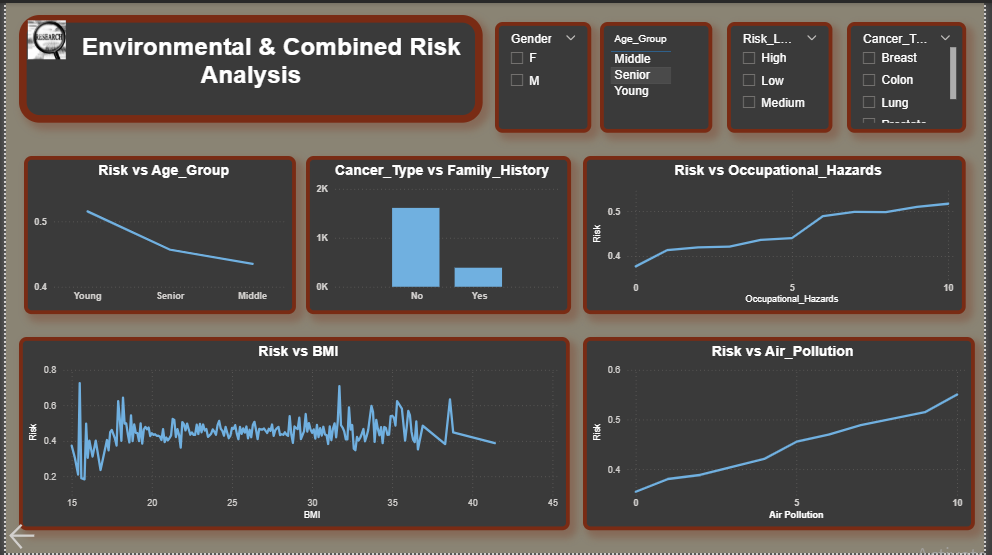

Layout of this report page (visuals, bound fields, positions):
{"tool":"powerbi","page":{"name":"Page 3","canvas":[1280,720],"ordinal":2},"visuals":[{"type":"clusteredColumnChart","title":"Cancer_Type vs Family_History","fields":{"Category":["cancer-risk-factors.Family_History"],"Y":["CountNonNull(cancer-risk-factors.Cancer_Type)"]},"box":[392.3,199.8,346.8,207.2],"z":0},{"type":"lineChart","title":"Risk vs BMI","fields":{"Category":["cancer-risk-factors.BMI"],"Y":["Avg(cancer-risk-factors.Overall_Risk)"]},"box":[17.6,437.9,721.5,252.7],"z":1000},{"type":"lineChart","title":"Risk vs Air_Pollution","fields":{"Category":["cancer-risk-factors.Air_Pollution"],"Y":["Avg(cancer-risk-factors.Overall_Risk)"]},"box":[755.3,437.9,512.8,252.7],"z":2000},{"type":"slicer","fields":{"Values":["cancer-risk-factors.Gender"]},"box":[640.7,25,126.4,145.5],"z":3000},{"type":"slicer","fields":{"Values":["cancer-risk-factors.Risk_Level"]},"box":[943.3,25,138.1,145.5],"z":4000},{"type":"tableEx","fields":{"Values":["cancer-risk-factors.Age_Group"]},"box":[777.6,24.9,146.6,145.3],"z":5000},{"type":"slicer","fields":{"Values":["cancer-risk-factors.Cancer_Type"]},"box":[1100.6,25,155.8,145.5],"z":6000},{"type":"textbox","box":[17,15.7,607.4,141.4],"z":7000},{"type":"lineChart","title":"Risk vs Age_Group","fields":{"Category":["cancer-risk-factors.Age_Group"],"Y":["Avg(cancer-risk-factors.Overall_Risk)"]},"box":[23.5,199.8,355.6,207.2],"z":8000},{"type":"lineChart","title":"Risk vs Occupational_Hazards","fields":{"Category":["cancer-risk-factors.Occupational_Hazards"],"Y":["Avg(cancer-risk-factors.Overall_Risk)"]},"box":[755.3,199.8,501.1,207.2],"z":9000},{"type":"image","box":[23.5,16.2,60.2,64.7],"z":10000},{"type":"actionButton","box":[0,676.8,53.7,43.2],"z":11000}]}

Visuals, with their boxes in screenshot pixels (x1, y1, x2, y2), scaled from the page's 1280x720 canvas onto the 992x555 screenshot:
"Cancer_Type vs Family_History" clusteredColumnChart: [304, 154, 573, 314]
"Risk vs BMI" lineChart: [14, 338, 573, 532]
"Risk vs Air_Pollution" lineChart: [585, 338, 983, 532]
slicer - cancer-risk-factors.Gender: [497, 19, 595, 131]
slicer - cancer-risk-factors.Risk_Level: [731, 19, 838, 131]
tableEx - cancer-risk-factors.Age_Group: [603, 19, 716, 131]
slicer - cancer-risk-factors.Cancer_Type: [853, 19, 974, 131]
textbox: [13, 12, 484, 121]
"Risk vs Age_Group" lineChart: [18, 154, 294, 314]
"Risk vs Occupational_Hazards" lineChart: [585, 154, 974, 314]
image: [18, 12, 65, 62]
actionButton: [0, 522, 42, 554]
